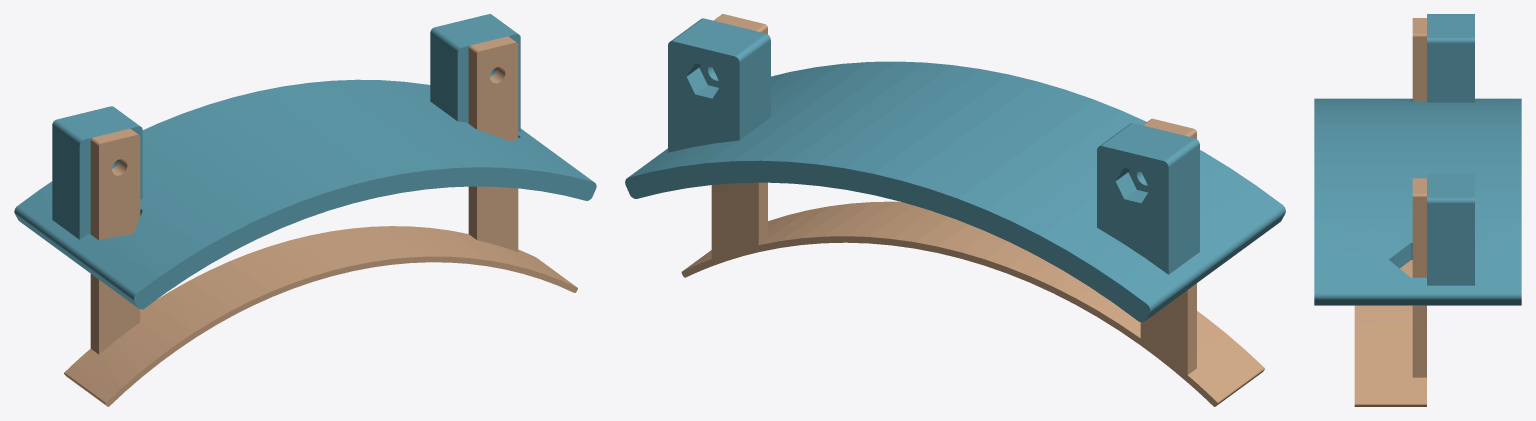
Rendered from R07_ASSIEME_PLASTICA.glb.
3 renders of one model, left to right at view 1: azimuth 30°, elevation 25°; view 2: azimuth 150°, elevation 25°; view 3: azimuth 270°, elevation 25°, orthographic. The views are drawn at different scales.
Visible parts, largest first — view 1: base_grezza, ponte_terminale; view 2: base_grezza, ponte_terminale; view 3: base_grezza, ponte_terminale.
Part boxes in pixels (left/top/right/bottom): base_grezza: left=14, top=14, right=596, bottom=309; ponte_terminale: left=64, top=36, right=577, bottom=406; base_grezza: left=625, top=18, right=1285, bottom=322; ponte_terminale: left=681, top=14, right=1264, bottom=406; base_grezza: left=1314, top=14, right=1521, bottom=305; ponte_terminale: left=1354, top=18, right=1426, bottom=406.
Bounding box in the file's own units: 0.105 × 0.0494 × 0.046.
